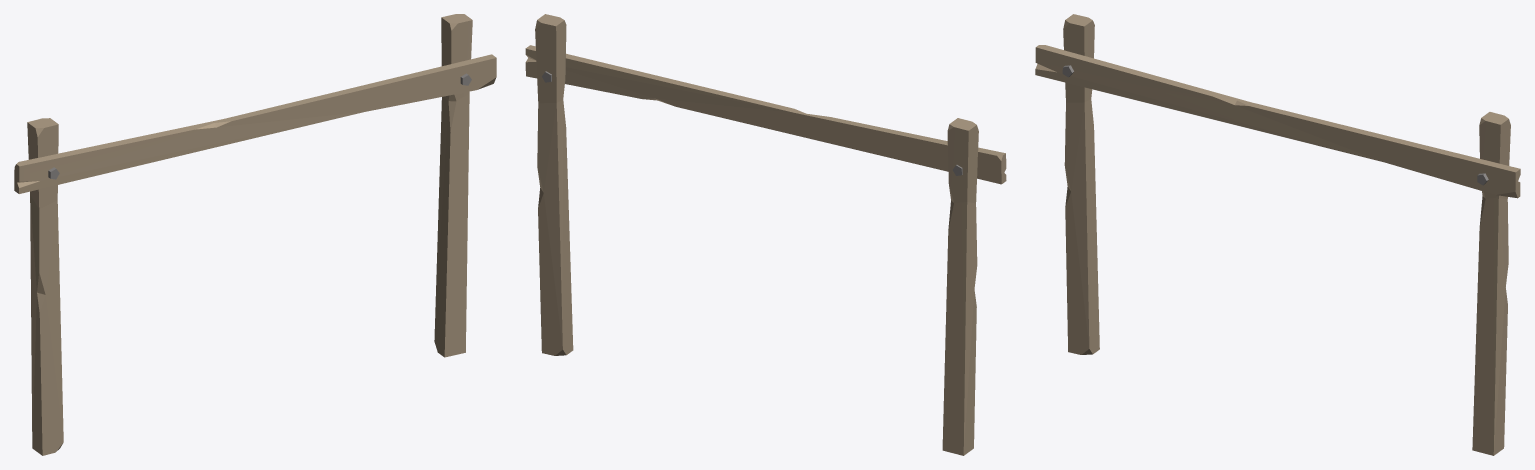
File: prop_fence2.gltf
3 views of the same model, side by side, from view 1: azimuth 30°, elevation 25°; view 2: azimuth 150°, elevation 25°; view 3: azimuth 330°, elevation 25° (orthographic).
Parts seen in each view (by area): view 1: prop_fence2; view 2: prop_fence2; view 3: prop_fence2.
Part boxes in pixels (x1,y1,x2,y2): prop_fence2: (14, 14, 496, 455); prop_fence2: (525, 14, 1006, 455); prop_fence2: (1035, 14, 1520, 455).
Size of the model in its own units: 2.47 by 1.64 by 0.1567.
Materials: 1 (1 with a texture image).
